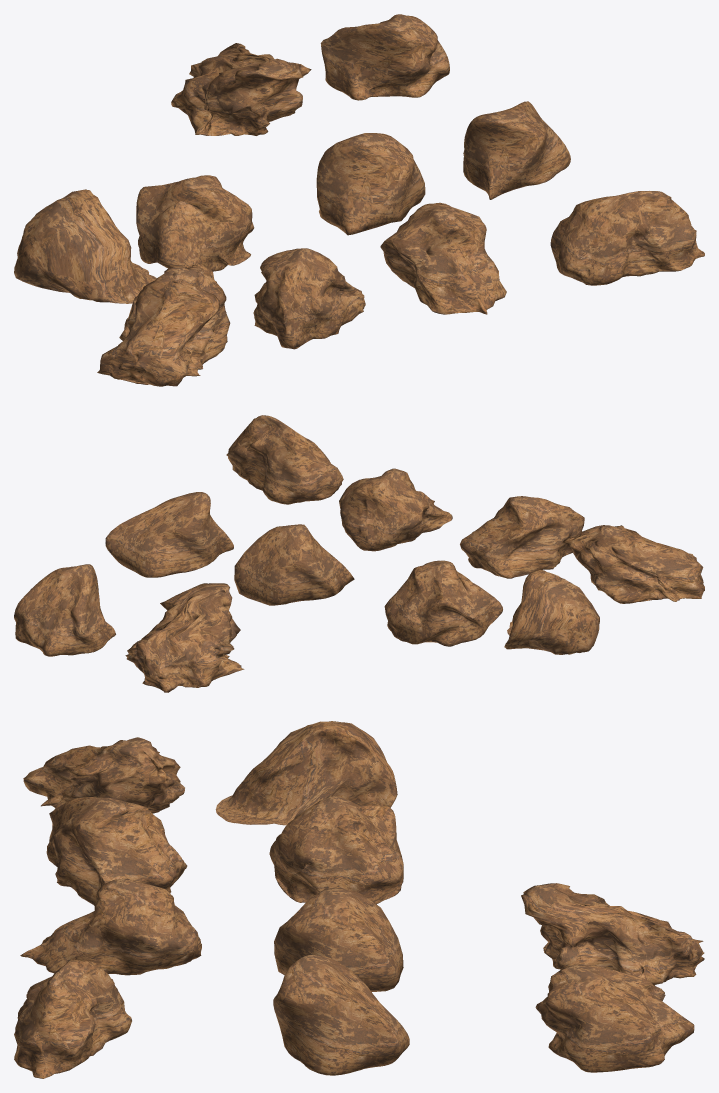
File: rocasTodas.FBX
The picture shows the model from 3 angles, top to bottom: view 1: azimuth 30°, elevation 25°; view 2: azimuth 150°, elevation 25°; view 3: azimuth 270°, elevation 25°; orthographic projection. The views are drawn at different scales.
Parts seen in each view (by area): view 1: GeoSphere005, GeoSphere008, GeoSphere003, GeoSphere006, GeoSphere002, GeoSphere010, GeoSphere001, GeoSphere009, GeoSphere007, GeoSphere004; view 2: GeoSphere010, GeoSphere008, GeoSphere004, GeoSphere002, GeoSphere007, GeoSphere001, GeoSphere009, GeoSphere005, GeoSphere006, GeoSphere003; view 3: GeoSphere009, GeoSphere003, GeoSphere004, GeoSphere002, GeoSphere010, GeoSphere006, GeoSphere007, GeoSphere005, GeoSphere001, GeoSphere008.
Part boxes in pixels (x1,y1,x2,y2): GeoSphere005: (550, 191, 704, 285); GeoSphere008: (97, 264, 230, 386); GeoSphere003: (14, 189, 156, 303); GeoSphere006: (380, 202, 506, 314); GeoSphere002: (136, 175, 254, 271); GeoSphere010: (171, 43, 311, 135); GeoSphere001: (316, 133, 425, 235); GeoSphere009: (320, 14, 449, 100); GeoSphere007: (253, 248, 365, 349); GeoSphere004: (463, 101, 570, 199); GeoSphere010: (125, 583, 244, 692); GeoSphere008: (562, 525, 704, 603); GeoSphere004: (105, 492, 233, 577); GeoSphere002: (384, 560, 502, 646); GeoSphere007: (460, 496, 584, 578); GeoSphere001: (234, 524, 354, 605); GeoSphere009: (14, 564, 115, 656); GeoSphere005: (226, 415, 343, 504); GeoSphere006: (339, 468, 452, 551); GeoSphere003: (504, 569, 599, 654); GeoSphere009: (535, 965, 694, 1072); GeoSphere003: (215, 721, 397, 825); GeoSphere004: (273, 954, 409, 1075); GeoSphere002: (269, 796, 403, 904); GeoSphere010: (521, 883, 704, 985); GeoSphere006: (20, 878, 201, 975); GeoSphere007: (46, 797, 187, 905); GeoSphere005: (14, 959, 131, 1078); GeoSphere001: (274, 888, 403, 991); GeoSphere008: (23, 737, 184, 813).
Bounding box in the file's own units: 1571 × 229 × 1469.
10 materials, 10 textured.
